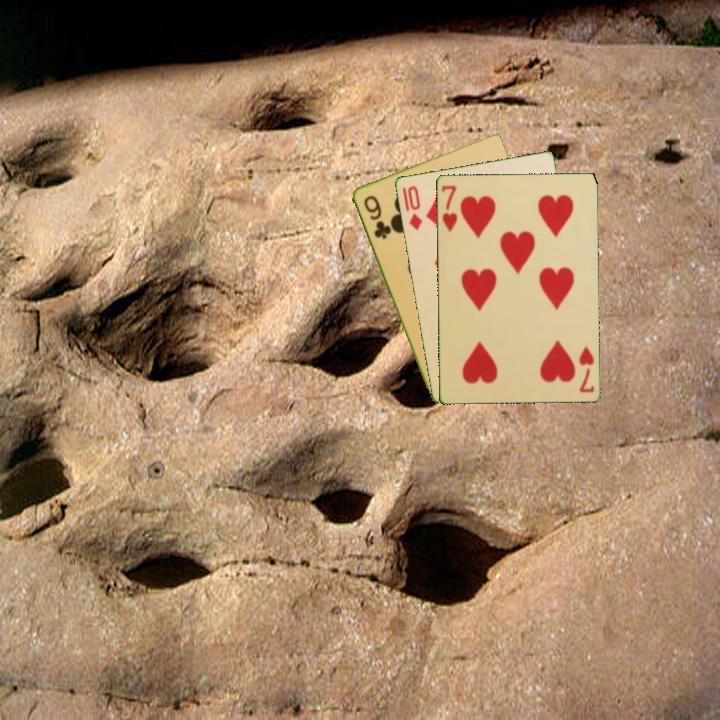10d: (404, 182, 425, 233)
7h: (575, 343, 597, 395), (438, 182, 459, 234)
9c: (360, 192, 392, 242)
